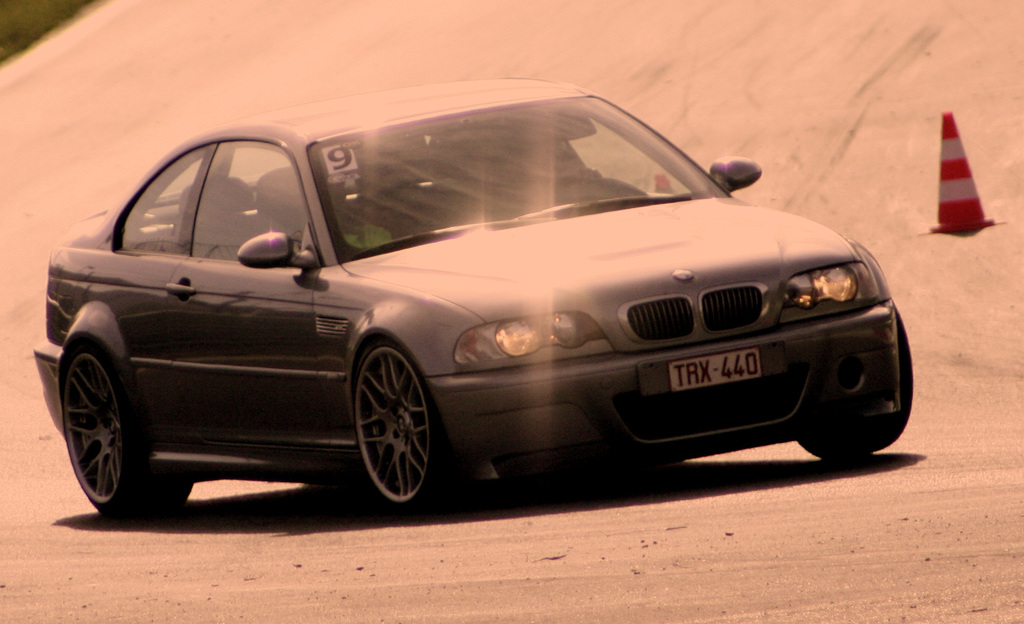Car: (30, 74, 912, 519)
